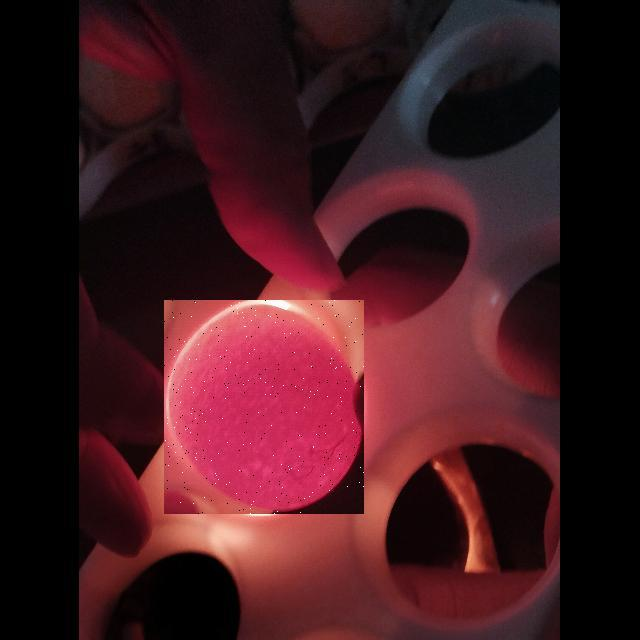Infertile: (164, 300, 364, 514)
